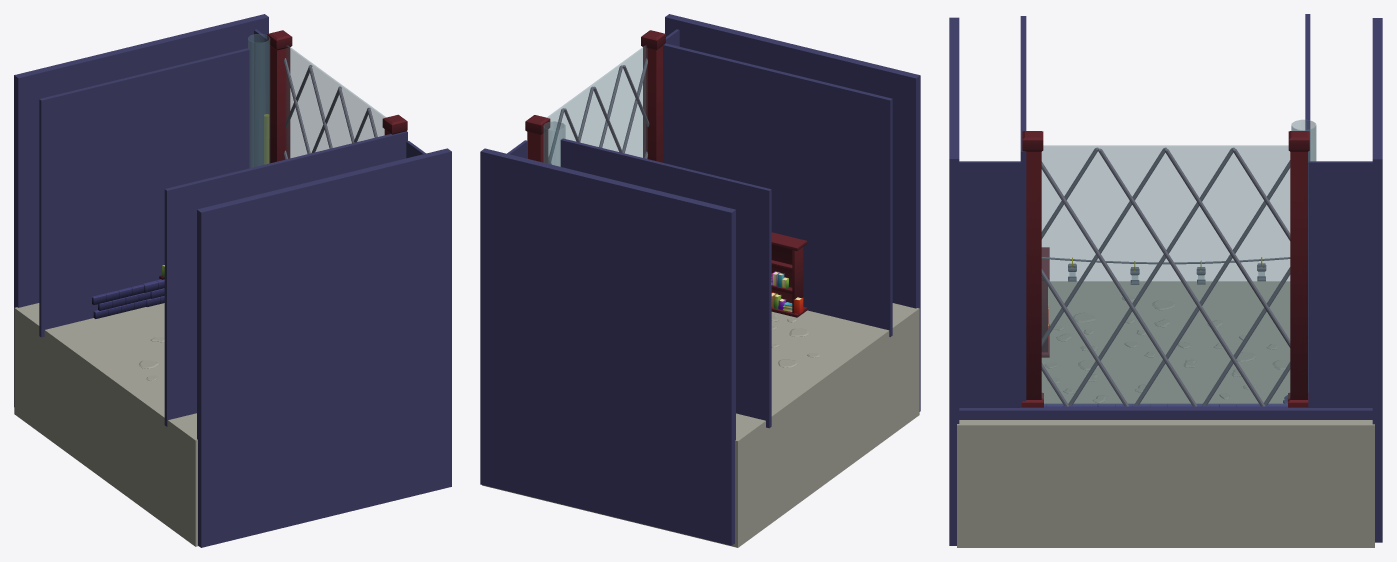
File: LevelStructure_04.fbx
3 views of the same model, side by side, from view 1: azimuth 30°, elevation 25°; view 2: azimuth 150°, elevation 25°; view 3: azimuth 270°, elevation 25° (orthographic). The views are drawn at different scales.
Visible parts, largest first — view 1: RH_BackWall_GEO, LH_Healthy_Wall_GEO, Floor_GEO, RH_Healthy_Wall_GEO, LH_BackWall_GEO, F_GlassWall_GEO, CoinTube_GEO, LH_WoodenPole_GEO, F_LH_Wall_GEO, F_RightAngleLead_GEO, LH_BrickWalls_GEO; view 2: LH_BackWall_GEO, RH_Healthy_Wall_GEO, Floor_GEO, RH_BackWall_GEO, LH_Healthy_Wall_GEO, F_GlassWall_GEO, RH_WoodenPole_GEO, F_RightAngleLead_GEO, LH_WoodenPole_GEO, CoinTube_GEO, polySurface500, polySurface499; view 3: Floor_GEO, F_GlassWall_GEO, F_LH_Wall_GEO, F_RH_Wall_GEO, F_RightAngleLead_GEO, RH_BackWall_GEO, LH_BackWall_GEO, F_Strip_GEO, LH_WoodenPole_GEO, RH_WoodenPole_GEO, RH_Healthy_Wall_GEO, Rocks_GEO (+4 smaller).
Part boxes in pixels (x1=…): RH_BackWall_GEO: x1=197, y1=148, x2=451, y2=547; LH_Healthy_Wall_GEO: x1=39, y1=48, x2=249, y2=337; Floor_GEO: x1=14, y1=303, x2=197, y2=546; RH_Healthy_Wall_GEO: x1=164, y1=131, x2=407, y2=426; LH_BackWall_GEO: x1=14, y1=14, x2=268, y2=406; F_GlassWall_GEO: x1=286, y1=46, x2=385, y2=158; CoinTube_GEO: x1=248, y1=34, x2=269, y2=167; LH_WoodenPole_GEO: x1=267, y1=30, x2=292, y2=163; F_LH_Wall_GEO: x1=254, y1=29, x2=268, y2=166; F_RightAngleLead_GEO: x1=284, y1=58, x2=377, y2=159; LH_BrickWalls_GEO: x1=92, y1=284, x2=150, y2=318; LH_BackWall_GEO: x1=480, y1=148, x2=735, y2=545; RH_Healthy_Wall_GEO: x1=663, y1=43, x2=892, y2=336; Floor_GEO: x1=482, y1=303, x2=919, y2=547; RH_BackWall_GEO: x1=665, y1=14, x2=920, y2=411; LH_Healthy_Wall_GEO: x1=560, y1=138, x2=771, y2=428; F_GlassWall_GEO: x1=547, y1=45, x2=647, y2=157; RH_WoodenPole_GEO: x1=641, y1=30, x2=665, y2=162; F_RightAngleLead_GEO: x1=548, y1=58, x2=649, y2=164; LH_WoodenPole_GEO: x1=525, y1=115, x2=550, y2=163; CoinTube_GEO: x1=543, y1=121, x2=565, y2=166; polySurface500: x1=771, y1=245, x2=792, y2=302; polySurface499: x1=792, y1=247, x2=803, y2=313; Floor_GEO: x1=957, y1=281, x2=1374, y2=547; F_GlassWall_GEO: x1=1042, y1=145, x2=1289, y2=405; F_LH_Wall_GEO: x1=1308, y1=161, x2=1372, y2=407; F_RH_Wall_GEO: x1=959, y1=161, x2=1021, y2=407; F_RightAngleLead_GEO: x1=1041, y1=147, x2=1290, y2=406; RH_BackWall_GEO: x1=949, y1=17, x2=959, y2=545; LH_BackWall_GEO: x1=1372, y1=18, x2=1382, y2=542; F_Strip_GEO: x1=959, y1=407, x2=1372, y2=419; LH_WoodenPole_GEO: x1=1288, y1=131, x2=1309, y2=407; RH_WoodenPole_GEO: x1=1021, y1=131, x2=1043, y2=407; RH_Healthy_Wall_GEO: x1=1020, y1=16, x2=1026, y2=406; Rocks_GEO: x1=1044, y1=295, x2=1289, y2=403.
Size of the model in its own units: 32.09 by 41.18 by 40.33.
